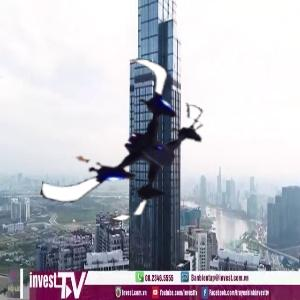drone: (51, 56, 224, 229)
